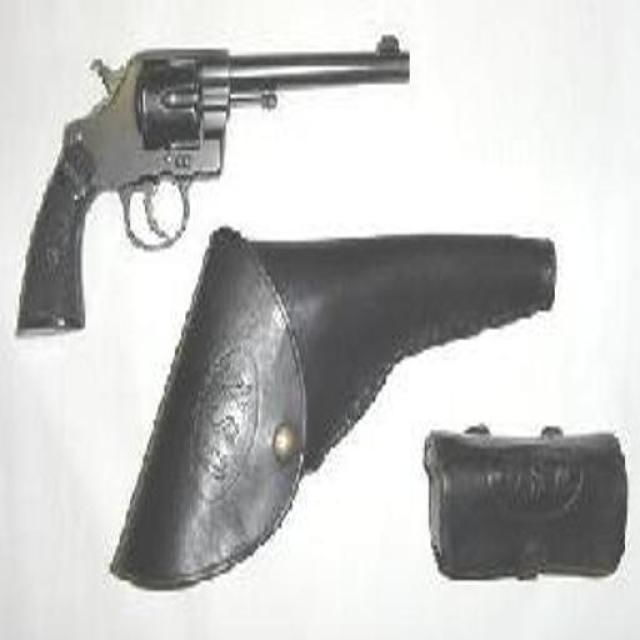pistol: (14, 27, 409, 331)
